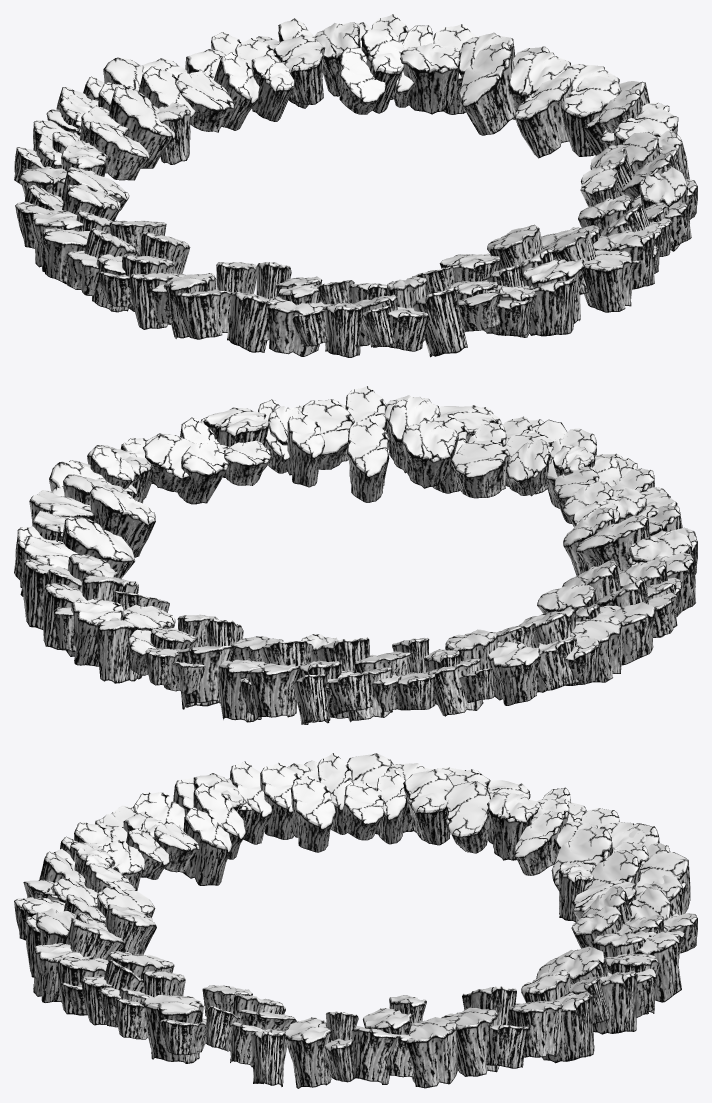
Rendered from Akaza_Stone3.fbx.
The picture shows the model from 3 angles, top to bottom: view 1: azimuth 30°, elevation 25°; view 2: azimuth 150°, elevation 25°; view 3: azimuth 270°, elevation 25°; orthographic projection.
Visible parts, largest first — view 1: SM_e_Plc_P1012_Stone003; view 2: SM_e_Plc_P1012_Stone003; view 3: SM_e_Plc_P1012_Stone003.
Boxes of the visible parts, left/top/right/bottom form: SM_e_Plc_P1012_Stone003: left=14, top=14, right=697, bottom=357; SM_e_Plc_P1012_Stone003: left=14, top=386, right=697, bottom=724; SM_e_Plc_P1012_Stone003: left=14, top=753, right=697, bottom=1088.
Bounding box in the file's own units: 261 × 34.74 × 260.
